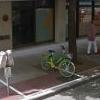Bicycle: (39, 45, 77, 79)
